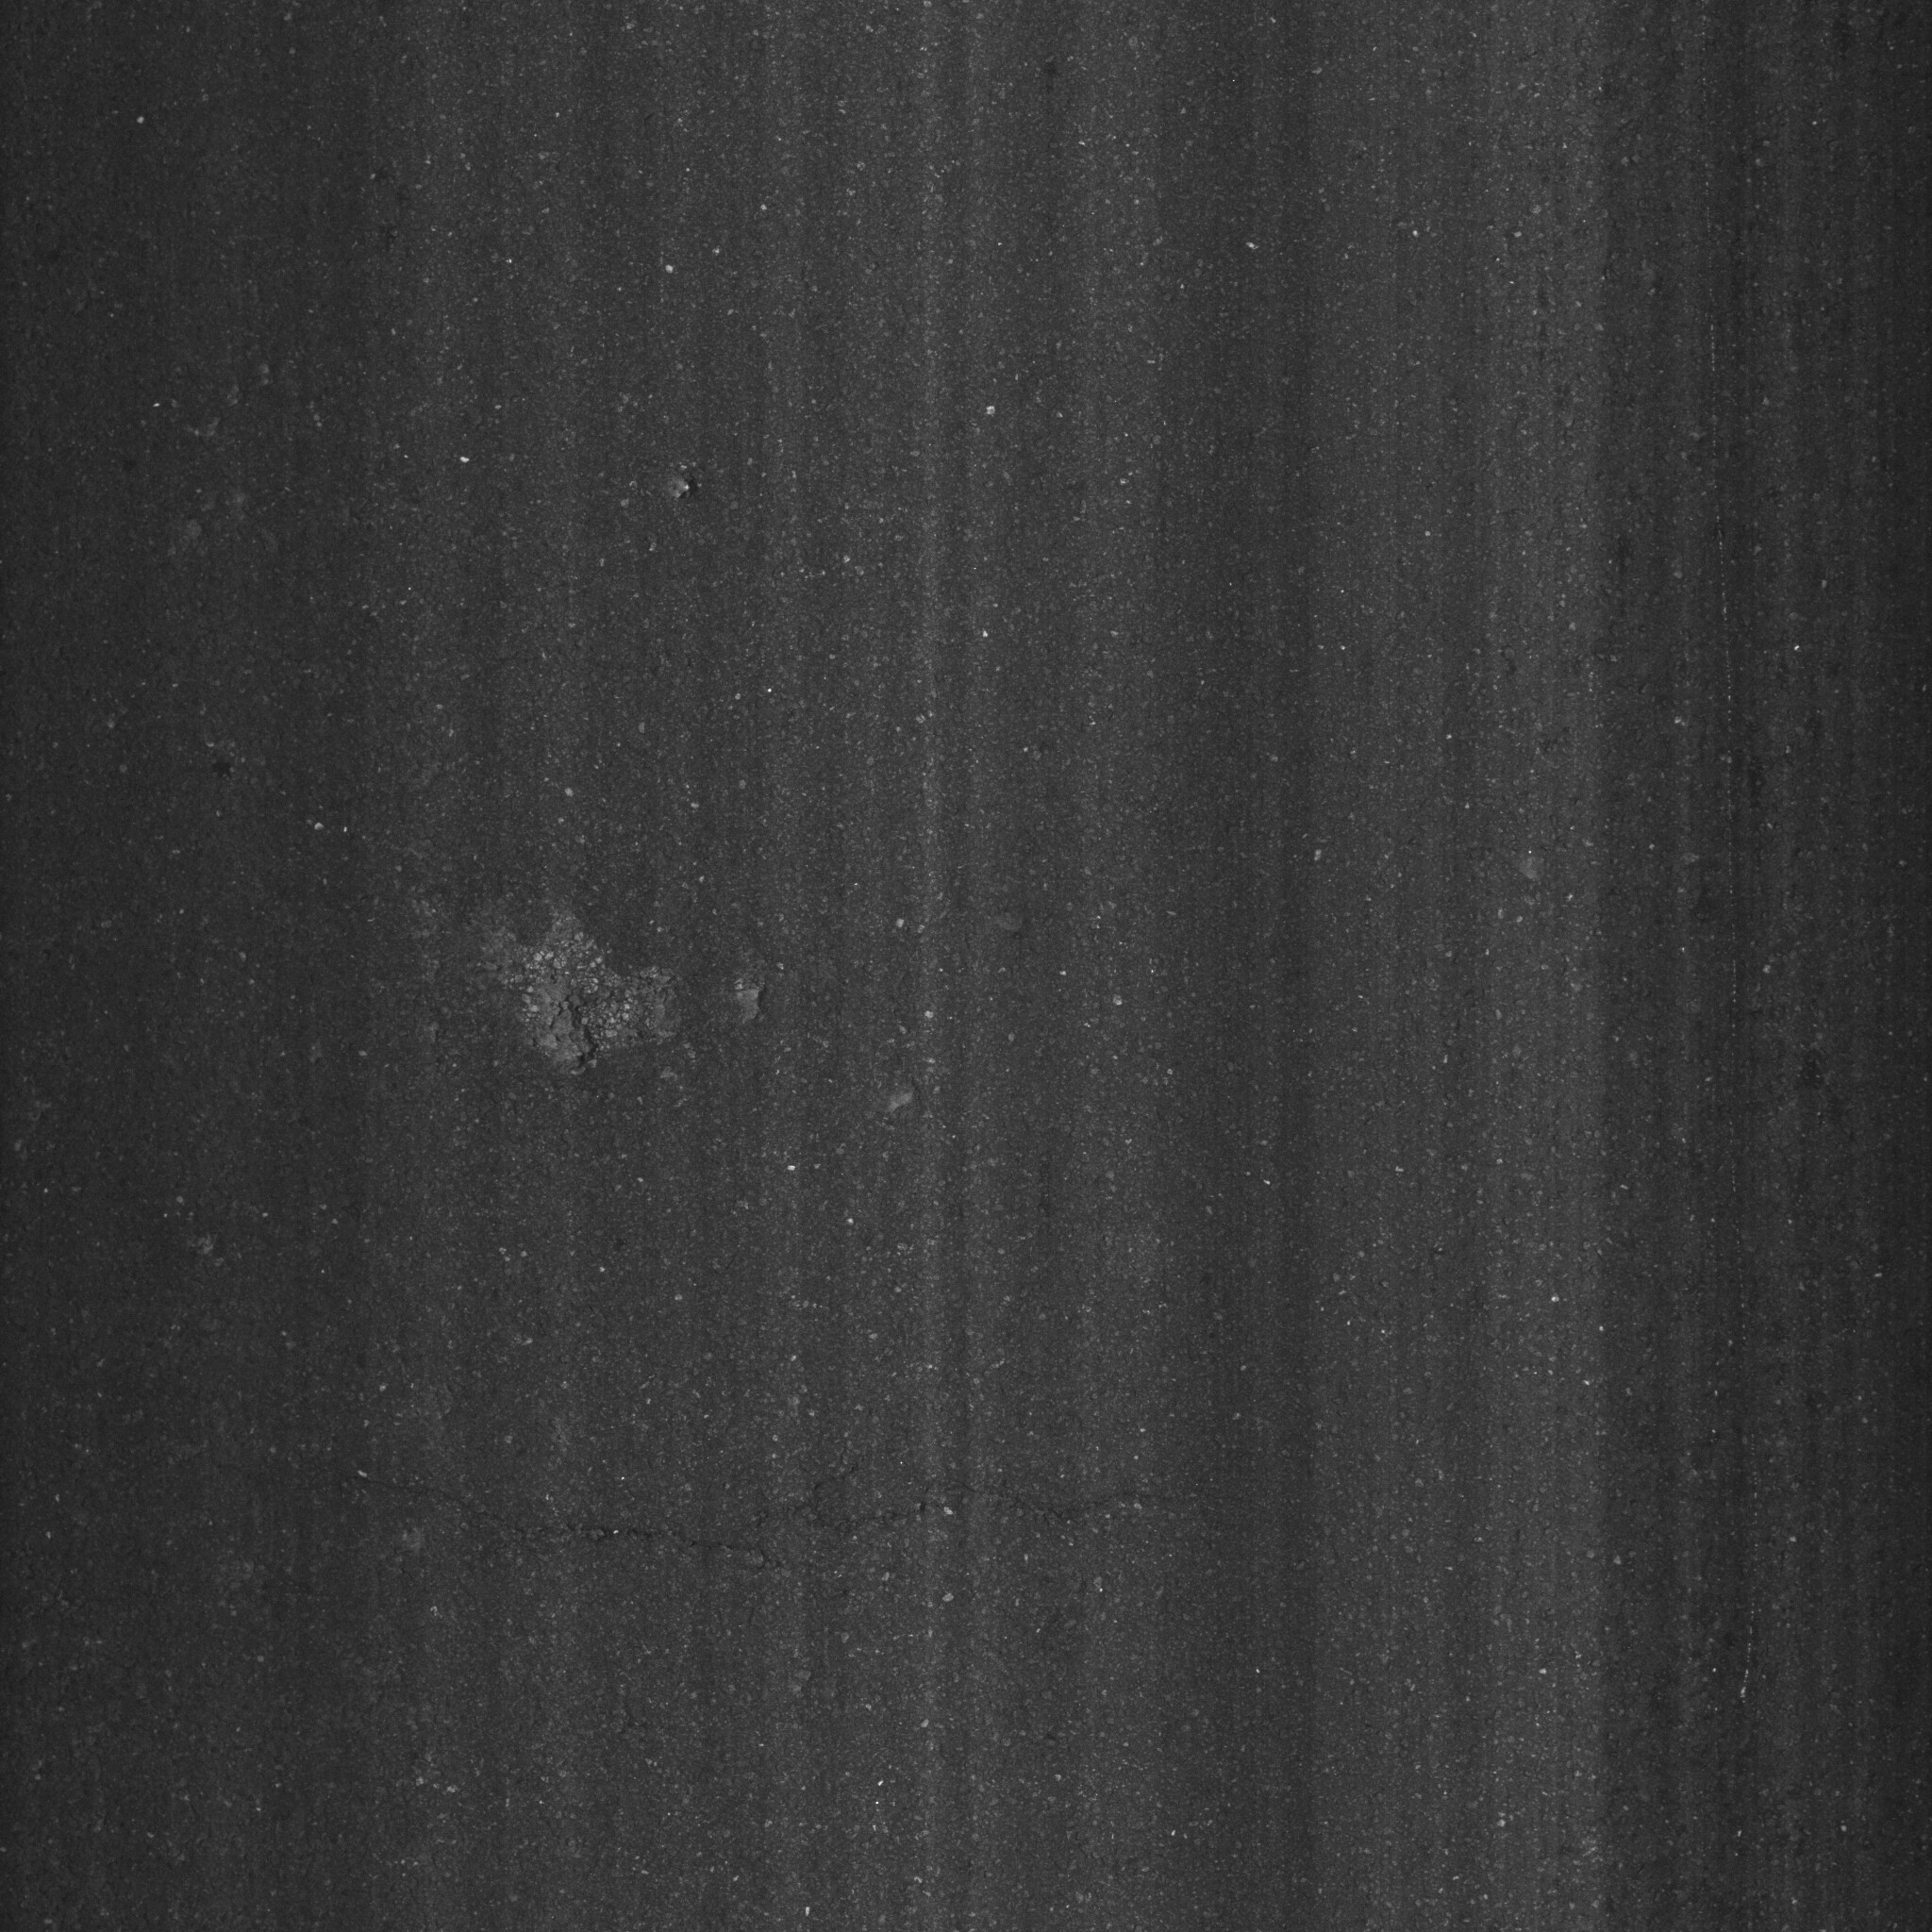transverse: (349, 1401, 1350, 1599)
